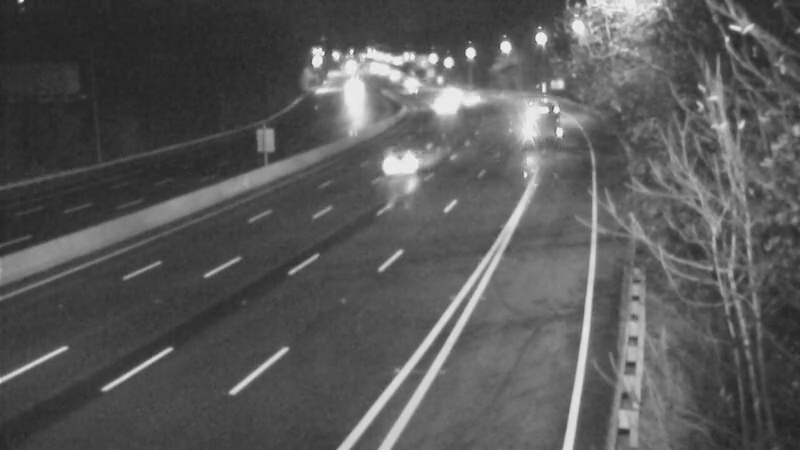vehicle: (371, 116, 451, 196), (371, 53, 421, 103), (383, 58, 433, 108), (394, 66, 444, 116), (422, 66, 472, 116), (446, 73, 496, 123), (421, 83, 471, 133), (519, 97, 569, 147), (329, 70, 379, 120)
